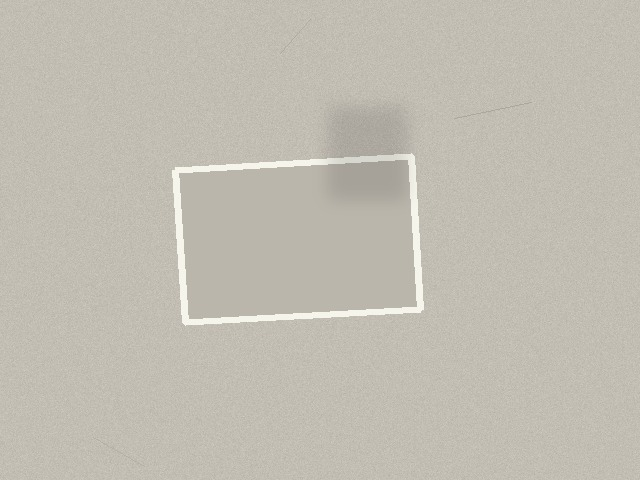parking_area: (175, 156, 420, 322)
